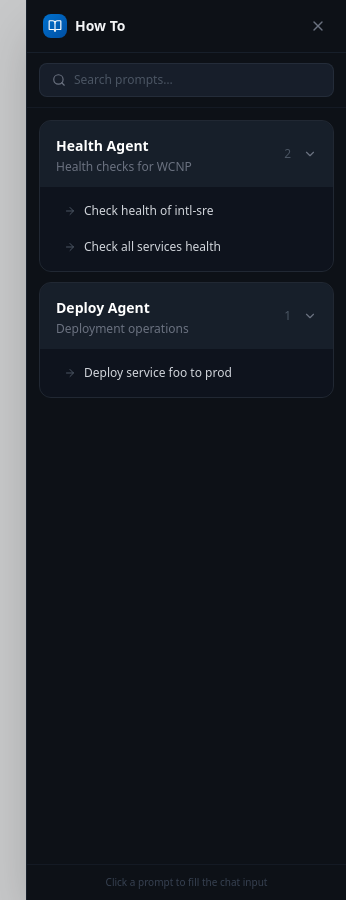
HowToPanel › clear-search button removes the query
Expected: the text "Health Agent" is shown, x1=56 y1=136 x2=149 y2=155
Type "intl-sre" into the field with placeholder "Search prompts…".
click(198, 80); type("intl-sre")  # box x1=74 y1=72 x2=321 y2=88
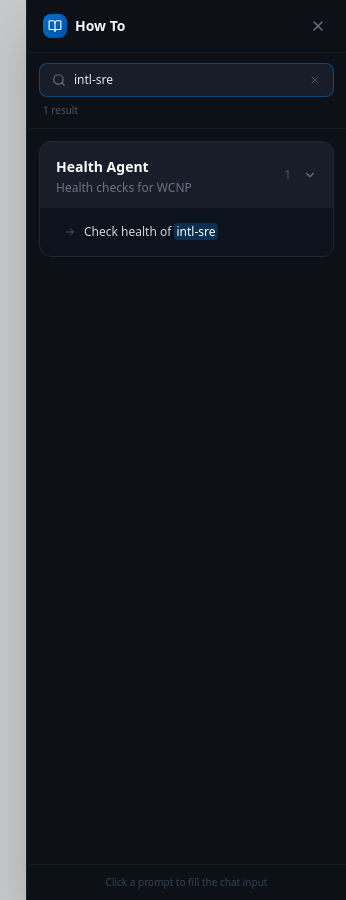
Click the 2nd button.
click(315, 80)  # box x1=309 y1=74 x2=321 y2=86
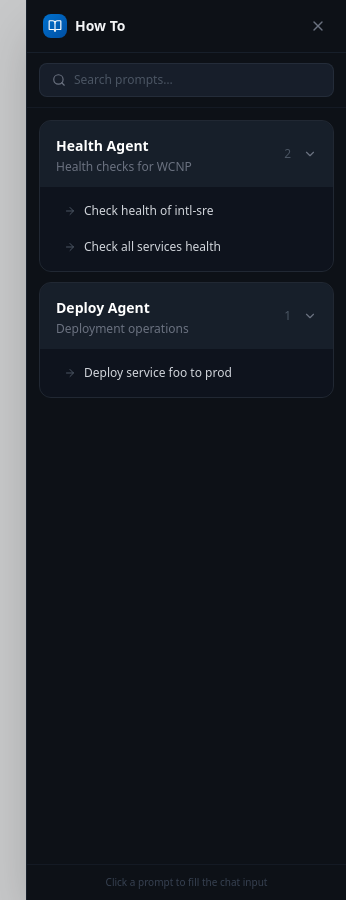
Expected: the text "Health Agent" is shown, x1=56 y1=136 x2=149 y2=155
Expected: the field with placeholder "Search prompts…" is empty, x1=74 y1=72 x2=321 y2=88
Expected: the text "Deploy Agent" is shown, x1=56 y1=298 x2=150 y2=317
